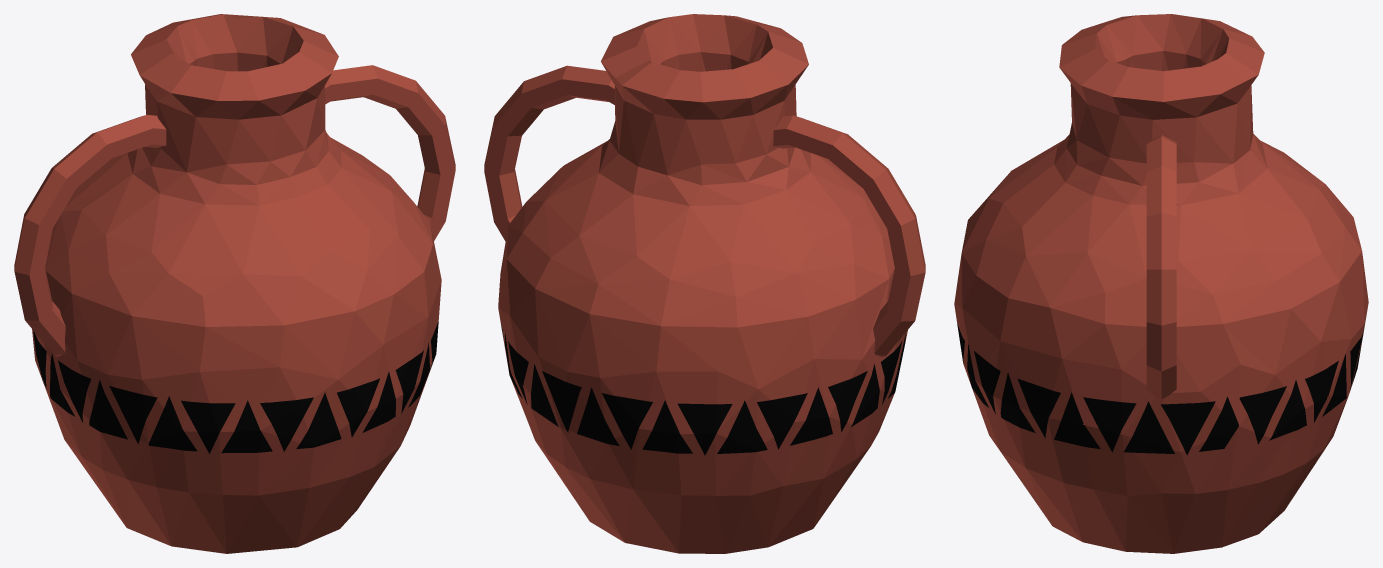
Rendered from Pottery 21_2b.fbx.
3 renders of one model, left to right at view 1: azimuth 30°, elevation 25°; view 2: azimuth 150°, elevation 25°; view 3: azimuth 270°, elevation 25°, orthographic.
Visible parts, largest first — view 1: Pottery 21_2b.006, Pottery 21_2b.001, Pottery 21_2b, Pottery 21_2b.002, Pottery 21_2b.004, Pottery 21_2b.003; view 2: Pottery 21_2b.006, Pottery 21_2b.003, Pottery 21_2b.005, Pottery 21_2b, Pottery 21_2b.002, Pottery 21_2b.001; view 3: Pottery 21_2b.002, Pottery 21_2b.004, Pottery 21_2b.003, Pottery 21_2b, Pottery 21_2b.005, Pottery 21_2b.001, Pottery 21_2b.006.
Boxes of the visible parts, bbox=[...] form: Pottery 21_2b.006: bbox=[14, 26, 226, 442]; Pottery 21_2b.001: bbox=[200, 52, 393, 446]; Pottery 21_2b: bbox=[36, 364, 400, 553]; Pottery 21_2b.002: bbox=[234, 15, 455, 243]; Pottery 21_2b.004: bbox=[368, 224, 441, 466]; Pottery 21_2b.003: bbox=[147, 14, 239, 71]; Pottery 21_2b.006: bbox=[700, 31, 925, 423]; Pottery 21_2b.003: bbox=[506, 60, 737, 377]; Pottery 21_2b.005: bbox=[498, 260, 795, 489]; Pottery 21_2b: bbox=[552, 390, 894, 553]; Pottery 21_2b.002: bbox=[484, 14, 703, 305]; Pottery 21_2b.001: bbox=[693, 14, 835, 165]; Pottery 21_2b.002: bbox=[1022, 59, 1290, 473]; Pottery 21_2b.004: bbox=[962, 227, 1122, 489]; Pottery 21_2b.003: bbox=[1205, 29, 1368, 341]; Pottery 21_2b: bbox=[964, 367, 1324, 553]; Pottery 21_2b.005: bbox=[1208, 307, 1367, 500]; Pottery 21_2b.001: bbox=[954, 25, 1124, 362]; Pottery 21_2b.006: bbox=[1082, 14, 1283, 152].
Bounding box in the file's own units: 65.52 × 65.32 × 53.29.
